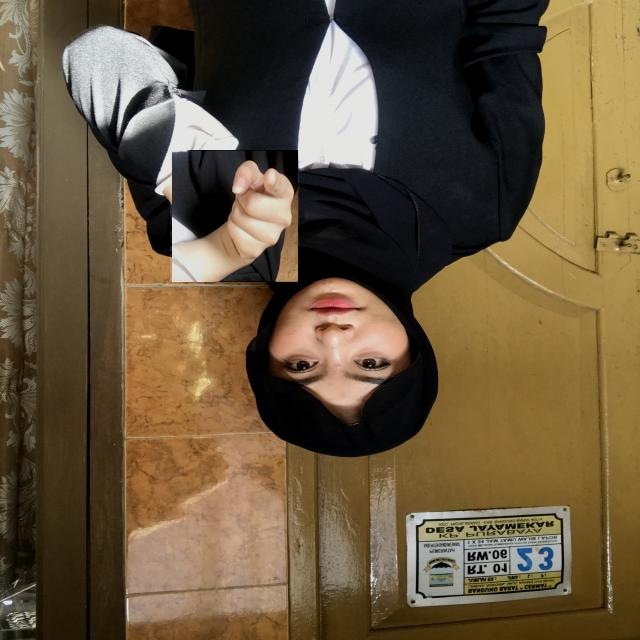kamu: (170, 151, 299, 281)
